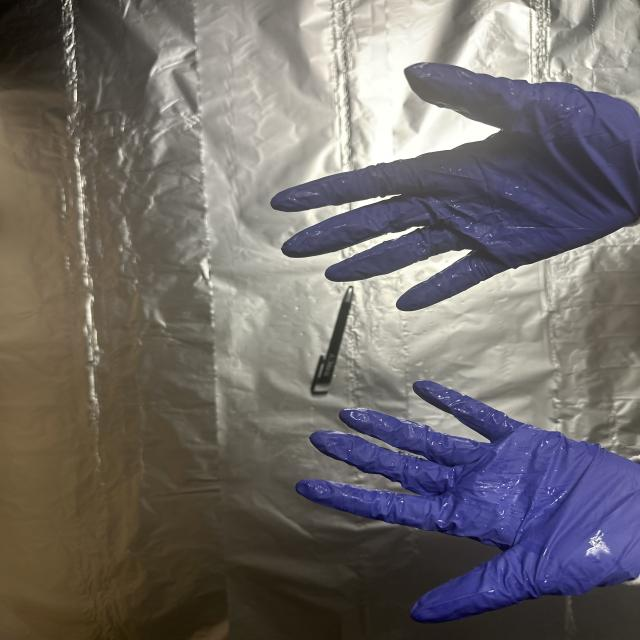gloves_contaminated: (271, 63, 640, 311), (296, 381, 640, 623)
